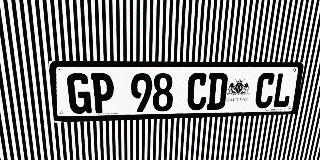8: (152, 73, 174, 112)
9: (131, 73, 152, 112)
C: (186, 73, 208, 111), (254, 73, 277, 108)
D: (206, 73, 228, 110)
G: (66, 73, 92, 114)
L: (272, 73, 294, 108)
P: (91, 73, 114, 113)
